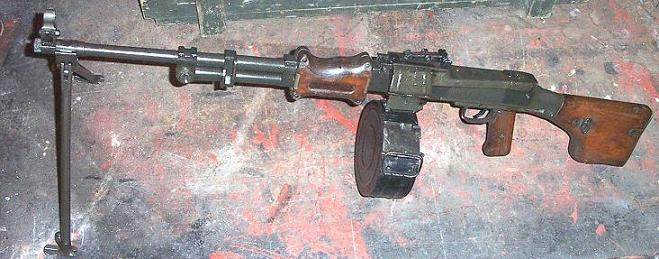rifle: (26, 15, 645, 236)
